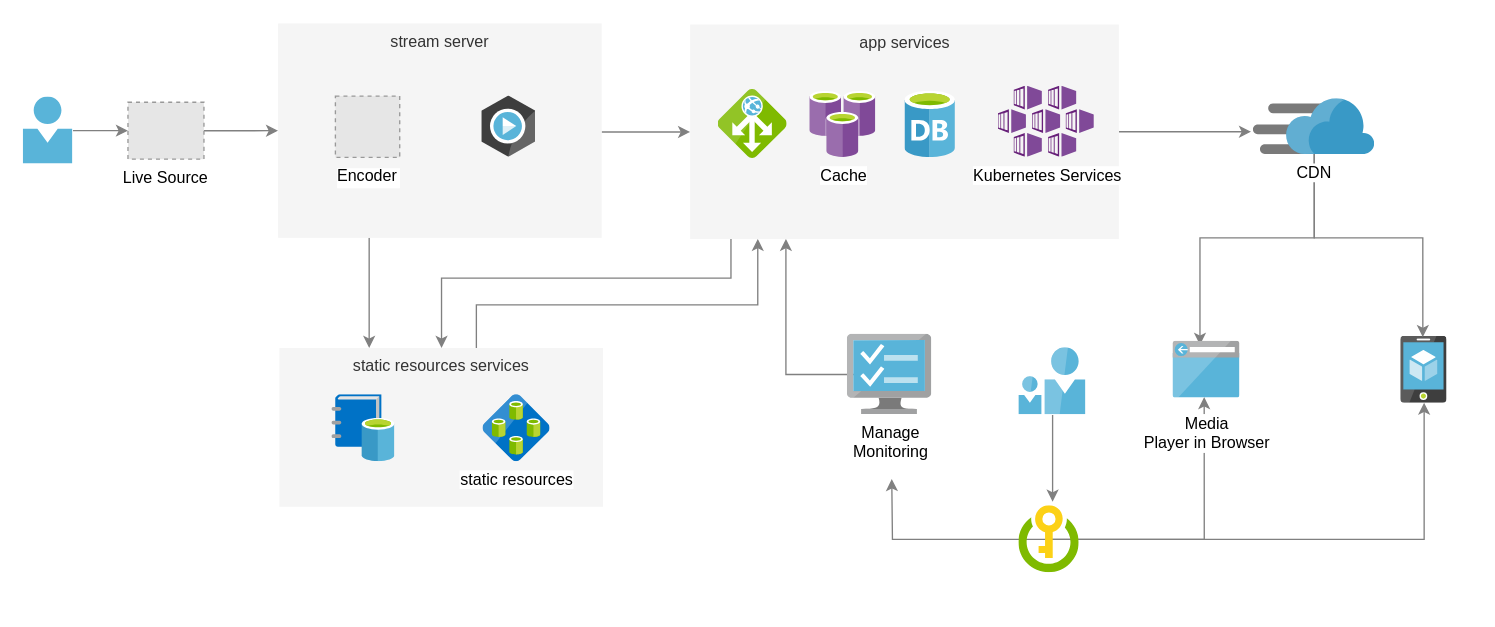
Some shapes in this 1495 by 627 pixel diagram are drawn without their labels. Grey dashed boxes stand in for pictures. The shapes that lost their labels are listed below. From the top down, each one's centre as x and y in pixels, then its label:
the point at 508,126: Media Services
the point at 752,123: Gateway
the point at 929,124: Database
the point at 1423,369: Media Player in Mobile App
the point at 362,427: Data Catalog
the point at 1048,538: License / Key
